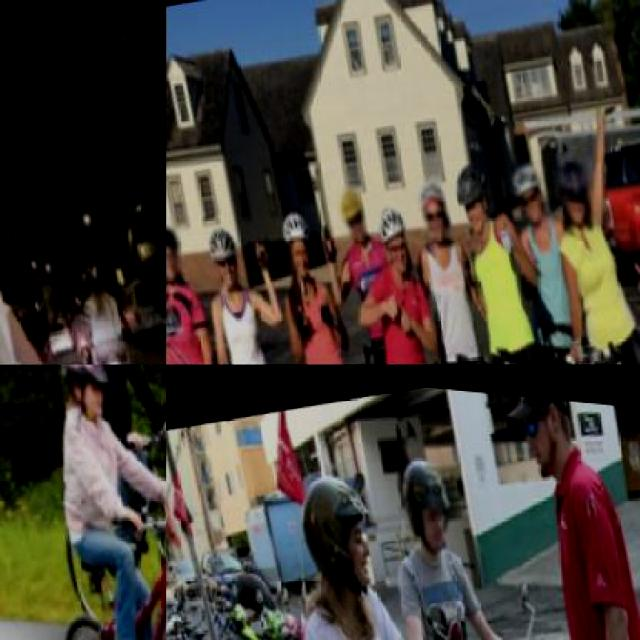With Helmet: (270, 435, 404, 617), (382, 423, 470, 563), (550, 135, 613, 236), (442, 143, 508, 234), (501, 146, 562, 228), (202, 208, 258, 297), (370, 189, 427, 276), (49, 365, 125, 426), (274, 192, 328, 277), (411, 162, 464, 240), (333, 176, 378, 238), (166, 208, 199, 286), (85, 247, 112, 282)
